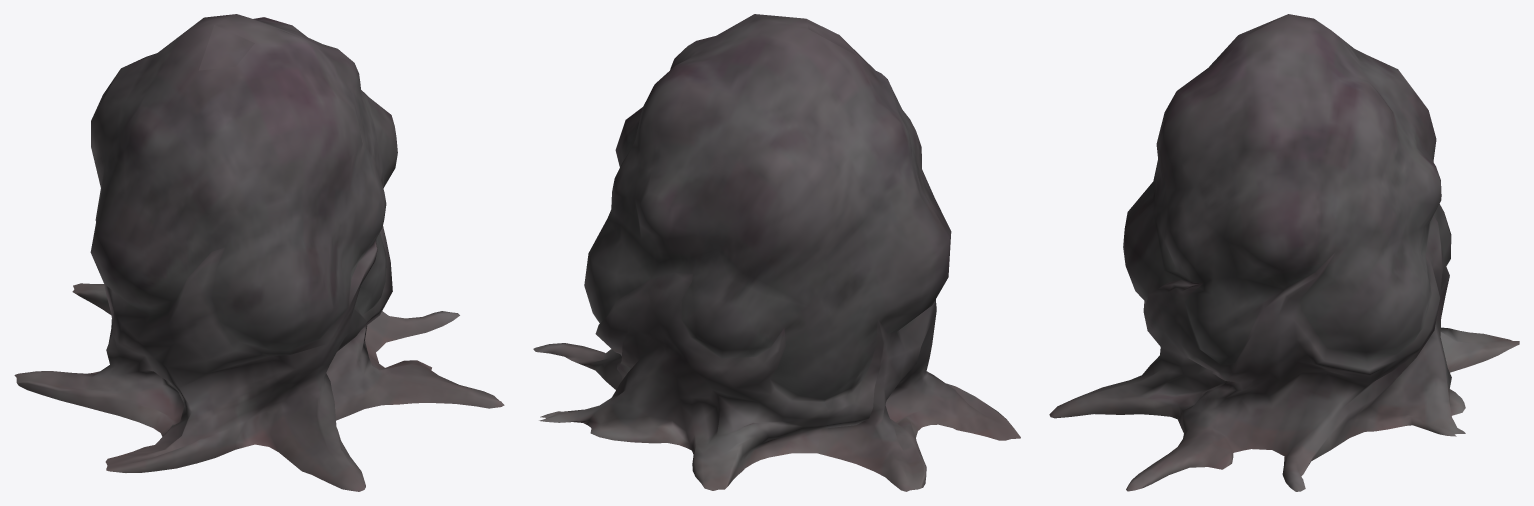
Rendered from Cocoon (5).fbx.
3 views of the same model, side by side, from view 1: azimuth 30°, elevation 25°; view 2: azimuth 150°, elevation 25°; view 3: azimuth 270°, elevation 25° (orthographic). The views are drawn at different scales.
Parts seen in each view (by area): view 1: Egg; view 2: Egg; view 3: Egg.
Part boxes in pixels (box(x1,y1,x2,y2)): Egg: box(14, 14, 504, 491); Egg: box(533, 14, 1020, 491); Egg: box(1049, 14, 1519, 491).
Bounding box in the file's own units: 1.65 × 1.51 × 1.66.
1 material, 1 textured.
